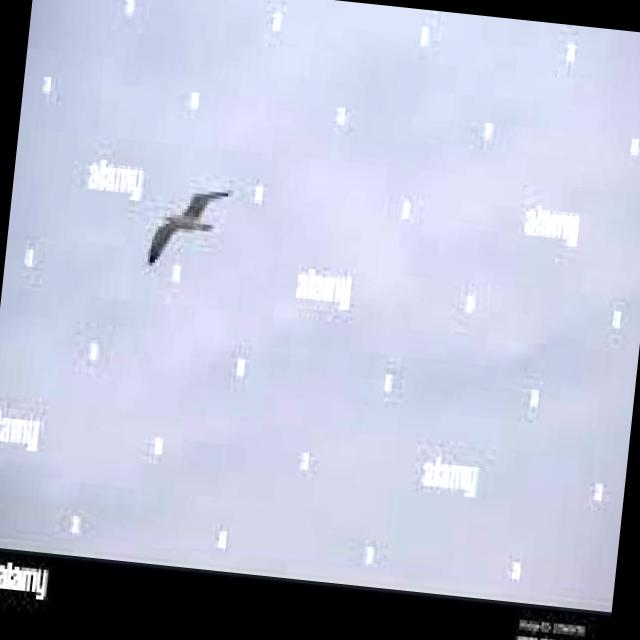bird: (143, 175, 233, 275)
